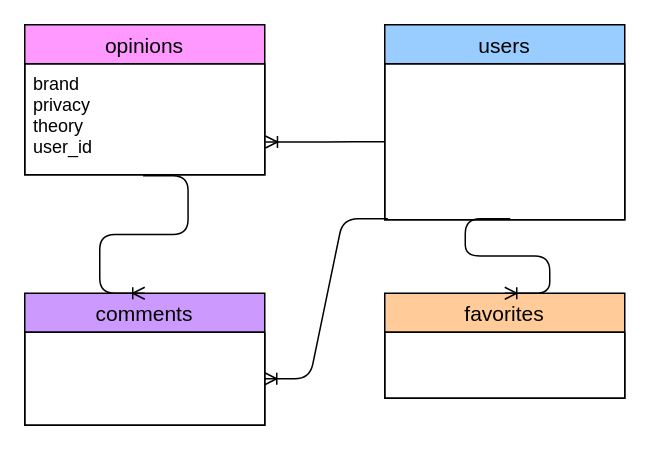
The diagram is 650 pixels wide and 450 high, and some of its shapes have lost their labels. The centre of each missing label's shape, as x and y in pixels:
content opinion_id user_id: the point at 144,378
name email encrypted_password age_id gender_id profile: the point at 504,141
stock_name stock_price: the point at 504,364
